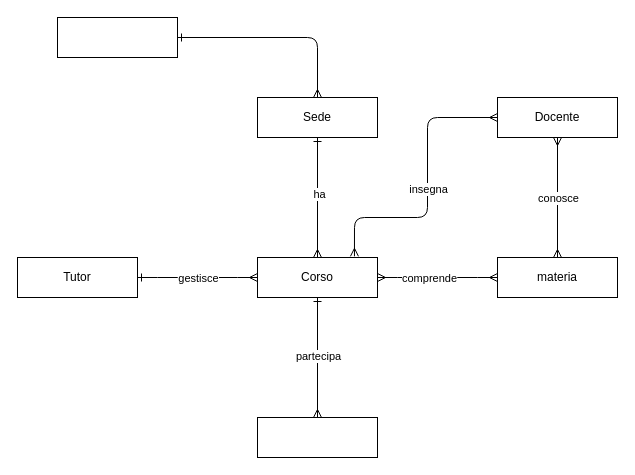
This 635x475 diagram has some shape labels left out. The shapes that lost their labels are listed below. From the top down, each one's centre as x and y in pixels, then its label:
(117,37): Città
(317,437): Studente
